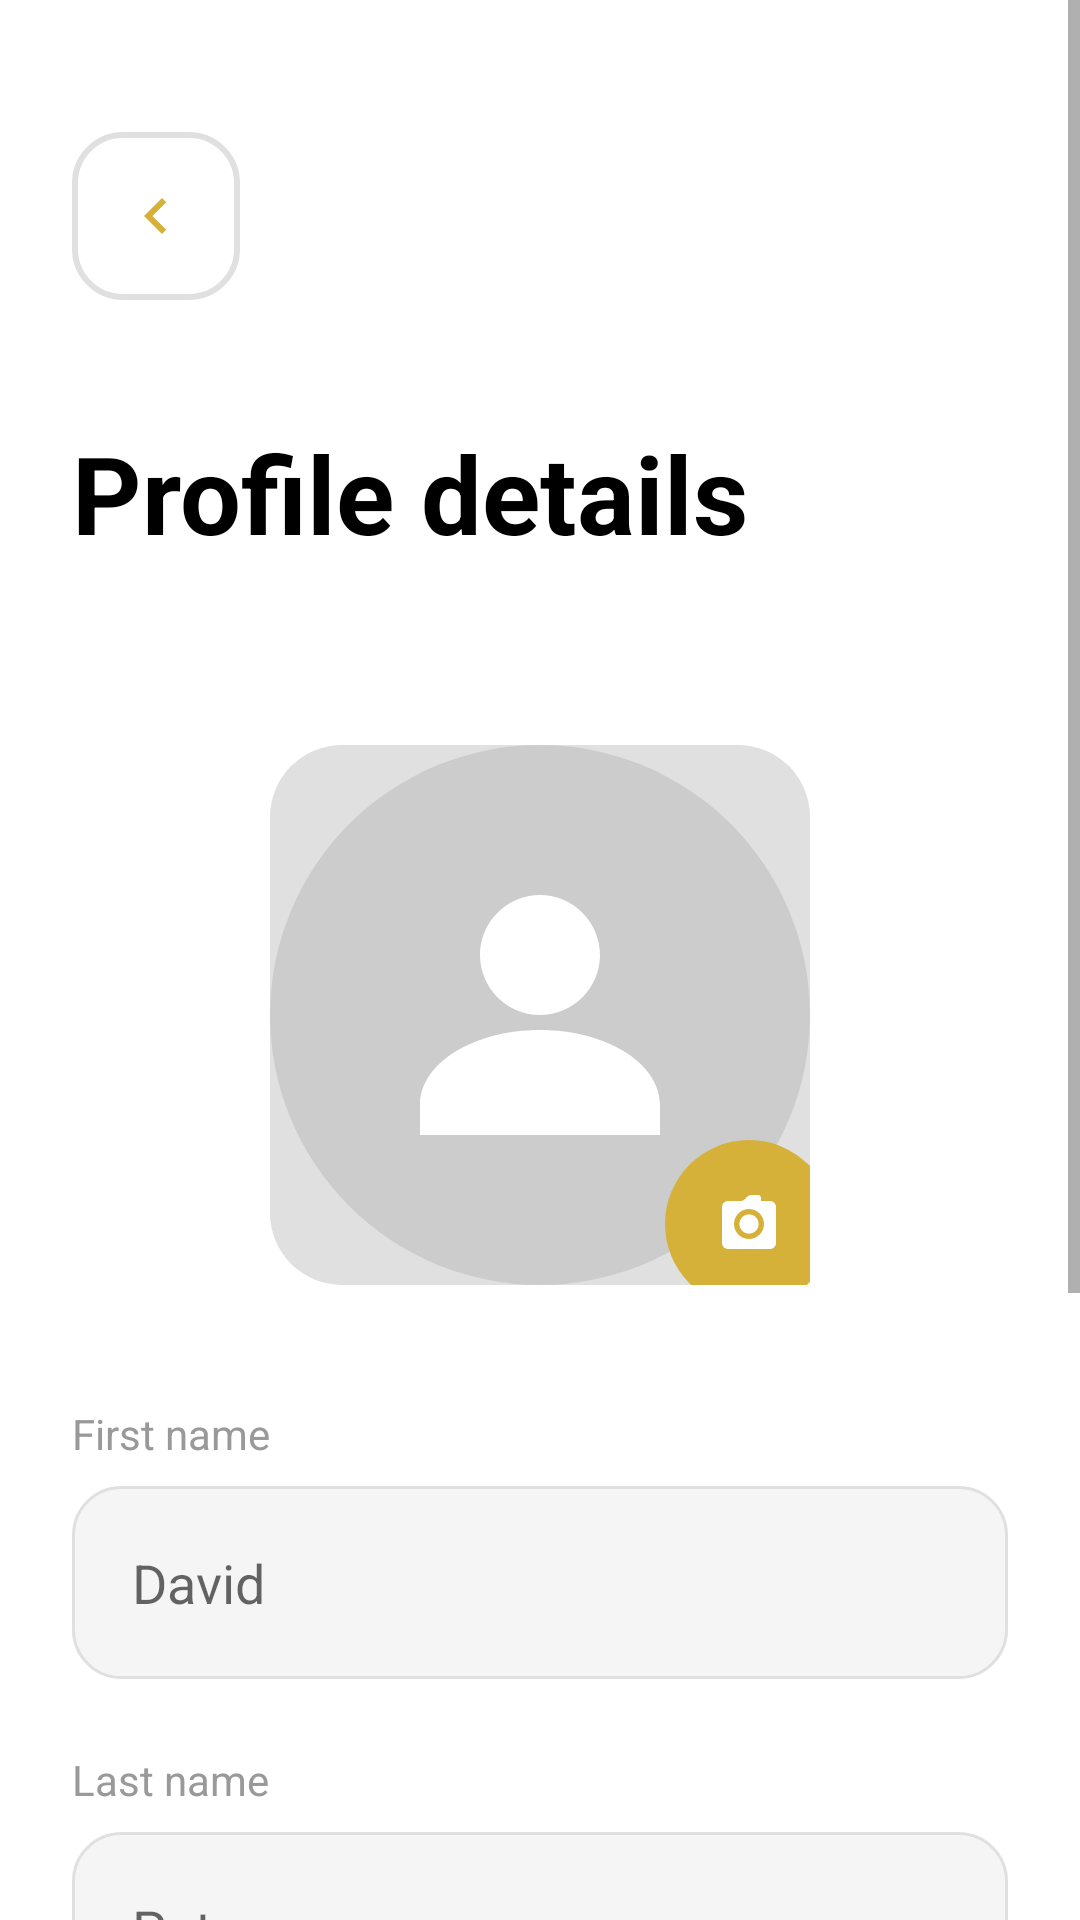

Locate icon controls on the screen. Image size 1080px x 1920px, boxes as (x1,y1,x2,y2).
Back: (72,132,240,300)
